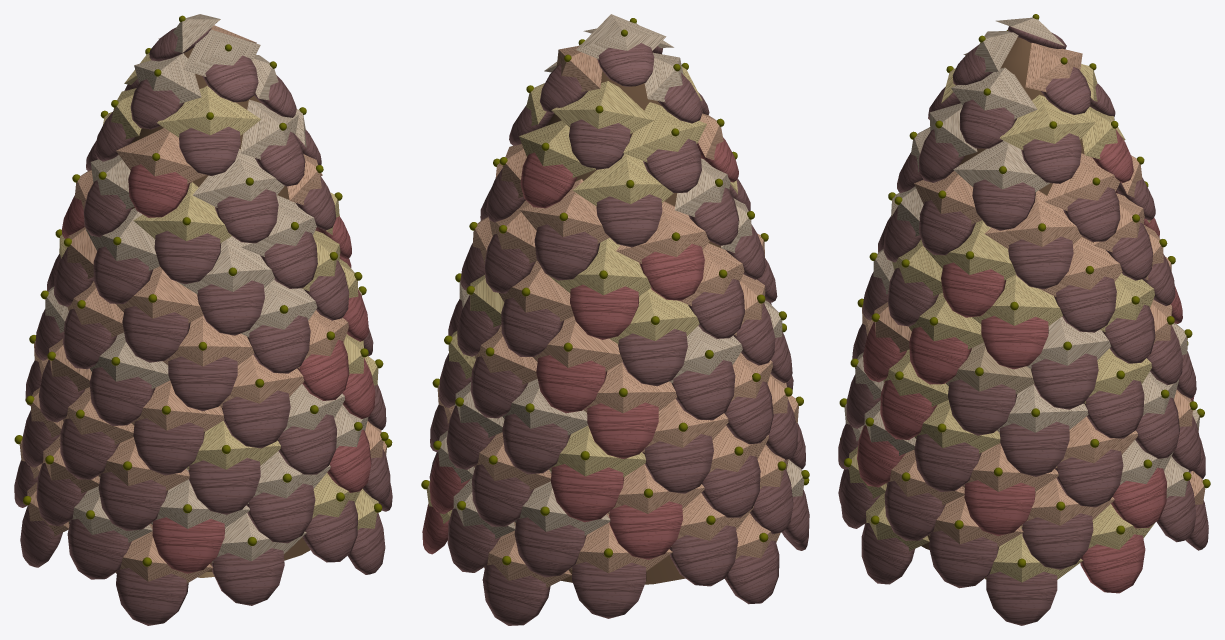
Rendered from pinecone.glb.
The picture shows the model from 3 angles, left to right: view 1: azimuth 30°, elevation 25°; view 2: azimuth 150°, elevation 25°; view 3: azimuth 270°, elevation 25°; orthographic projection. The views are drawn at different scales.
Bounding box in the file's own units: 0.0881 × 0.1394 × 0.0873.
9 materials, 6 textured.
